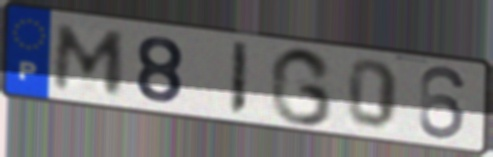0: (344, 56, 402, 134)
6: (417, 64, 469, 143)
8: (135, 34, 187, 104)
G: (266, 45, 335, 129)
I: (226, 39, 252, 120)
M: (50, 21, 130, 98)
